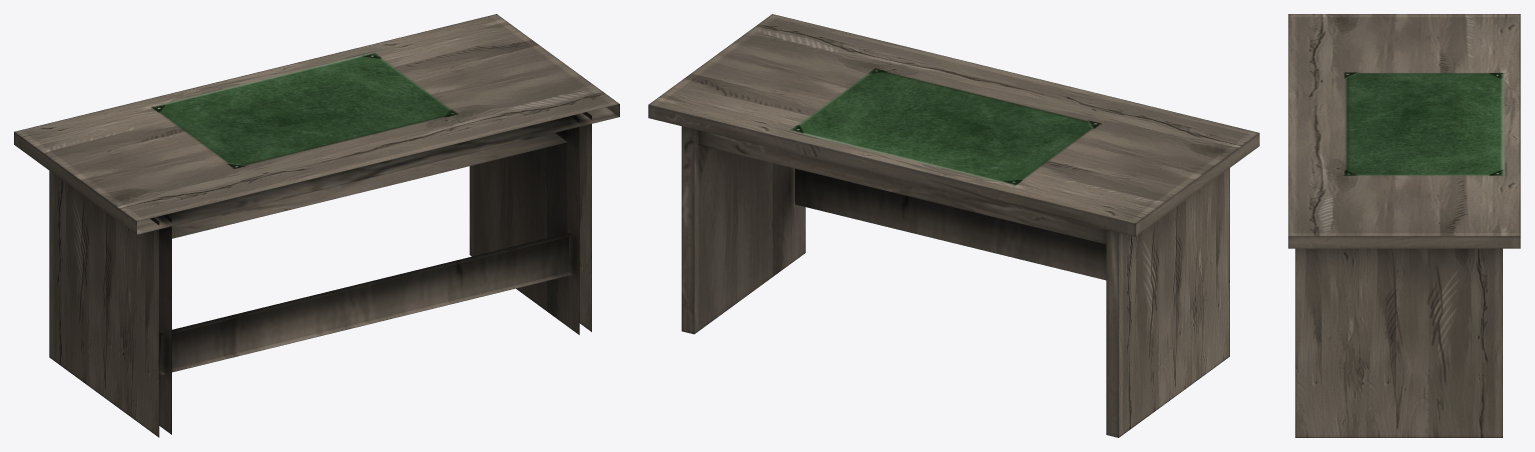
The model's file is littleDesk.fbx.
The picture shows the model from 3 angles, left to right: view 1: azimuth 30°, elevation 25°; view 2: azimuth 150°, elevation 25°; view 3: azimuth 270°, elevation 25°; orthographic projection. The views are drawn at different scales.
Visible parts, largest first — view 1: polySurface1795; view 2: polySurface1795; view 3: polySurface1795.
Boxes of the visible parts, <box> form: polySurface1795: <box>14,14,619,437</box>; polySurface1795: <box>648,14,1259,437</box>; polySurface1795: <box>1288,14,1520,437</box>.
Bounding box in the file's own units: 213 × 95.01 × 94.08.
